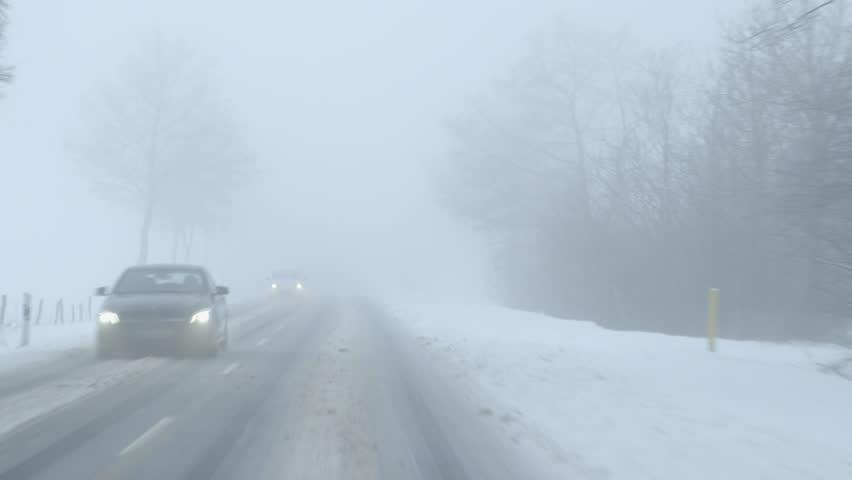car: (92, 262, 233, 358), (264, 266, 311, 300)
